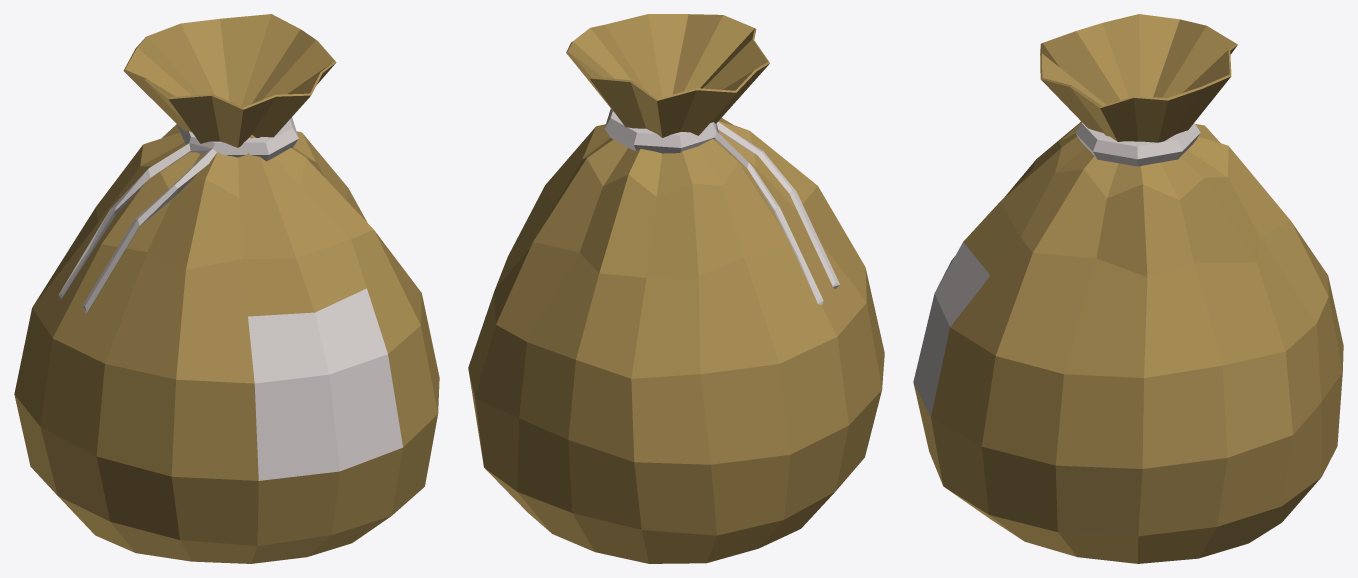
The model's file is bag.fbx.
The picture shows the model from 3 angles, left to right: view 1: azimuth 30°, elevation 25°; view 2: azimuth 150°, elevation 25°; view 3: azimuth 270°, elevation 25°; orthographic projection.
Visible parts, largest first — view 1: Bag; view 2: Bag; view 3: Bag.
Part boxes in pixels (left/top/right/bottom): Bag: left=14, top=14, right=439, bottom=563; Bag: left=468, top=14, right=884, bottom=563; Bag: left=913, top=14, right=1343, bottom=563.
Bounding box in the file's own units: 43.15 × 54.05 × 44.53.
